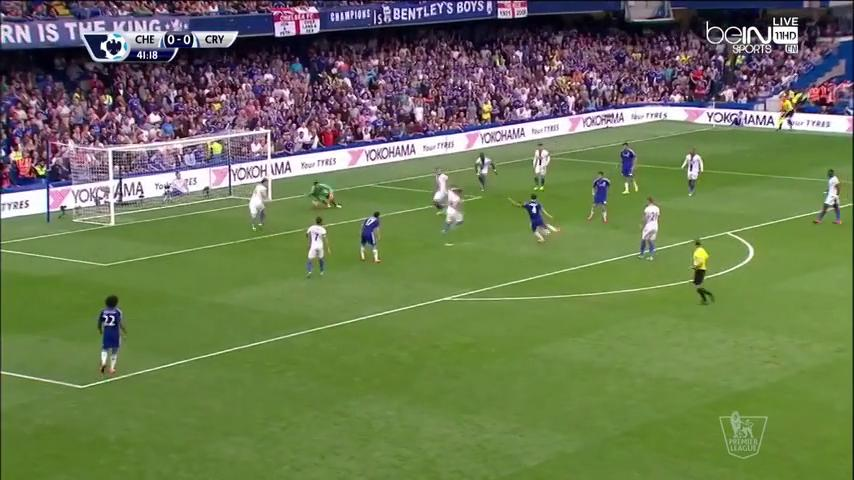football: (542, 228, 551, 236)
